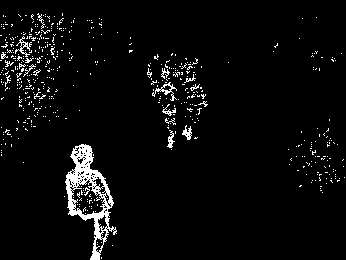person: (64, 141, 114, 259), (151, 78, 178, 149)
